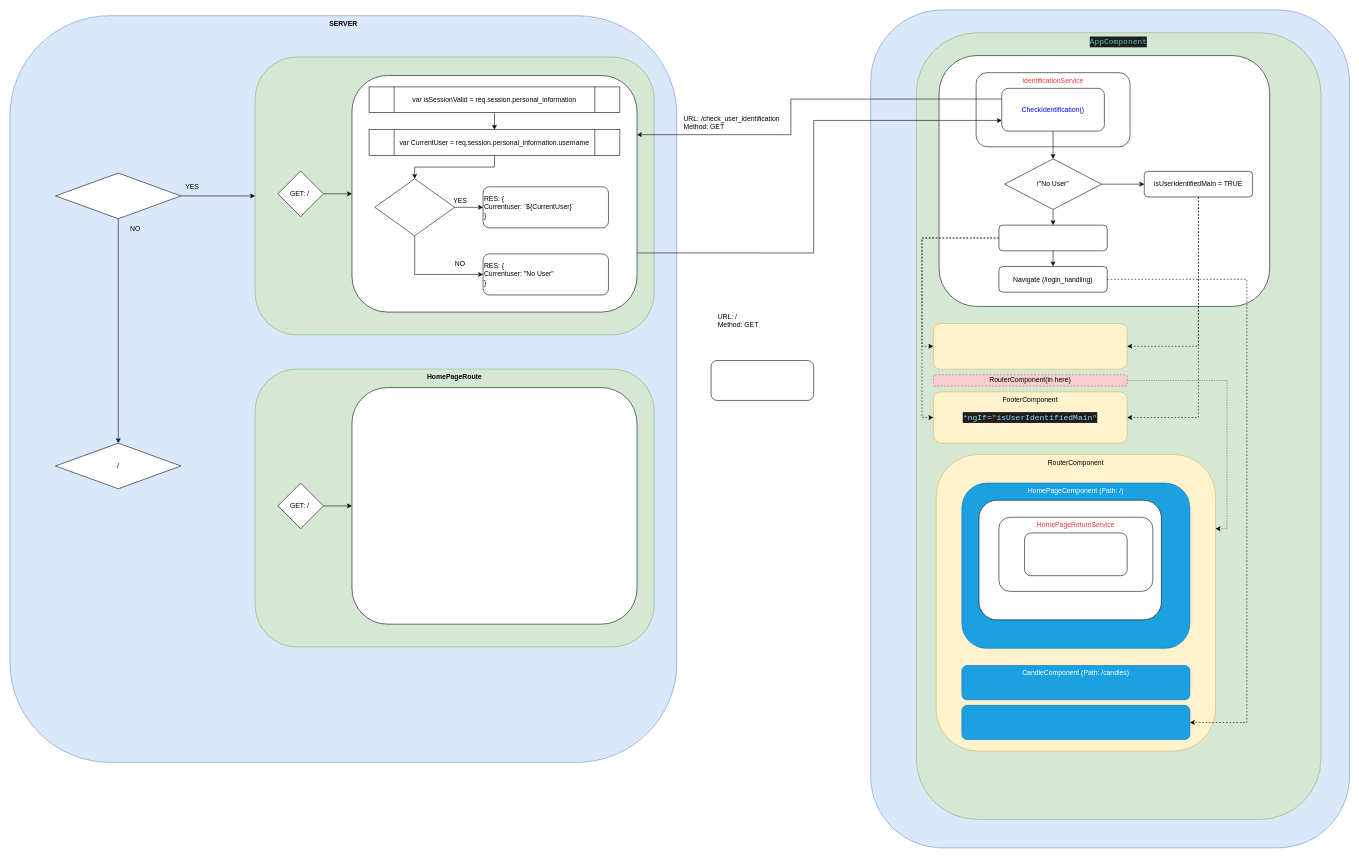
Some shapes in this 1359 by 858 pixel diagram are drawn without their labels. The shapes that lost their labels are listed below. From the top down, each one's box as (x1, y1, x2, y2) in pixels, then its label:
(55, 173, 181, 219): /check_user_identification
(255, 56, 654, 335): CheckUserIdentification
(939, 55, 1270, 306): Constructor (AppComponent)
(374, 178, 455, 236): isSessionValid != undefined
(998, 225, 1107, 251): isUserIdentifiedMain = FALSE
(933, 323, 1127, 369): HeaderComponent *ngIf = " isUserIdentifiedMain "
(711, 360, 814, 400): RES: { id: 1, name: 'HomePage archived' }
(870, 9, 1349, 848): CLIENT (index.html)
(978, 500, 1161, 620): Constructor
(1024, 532, 1127, 576): ReturnHomePage ()
(961, 705, 1190, 740): LoginAndRegisterComponent (Path: /login_handling)
